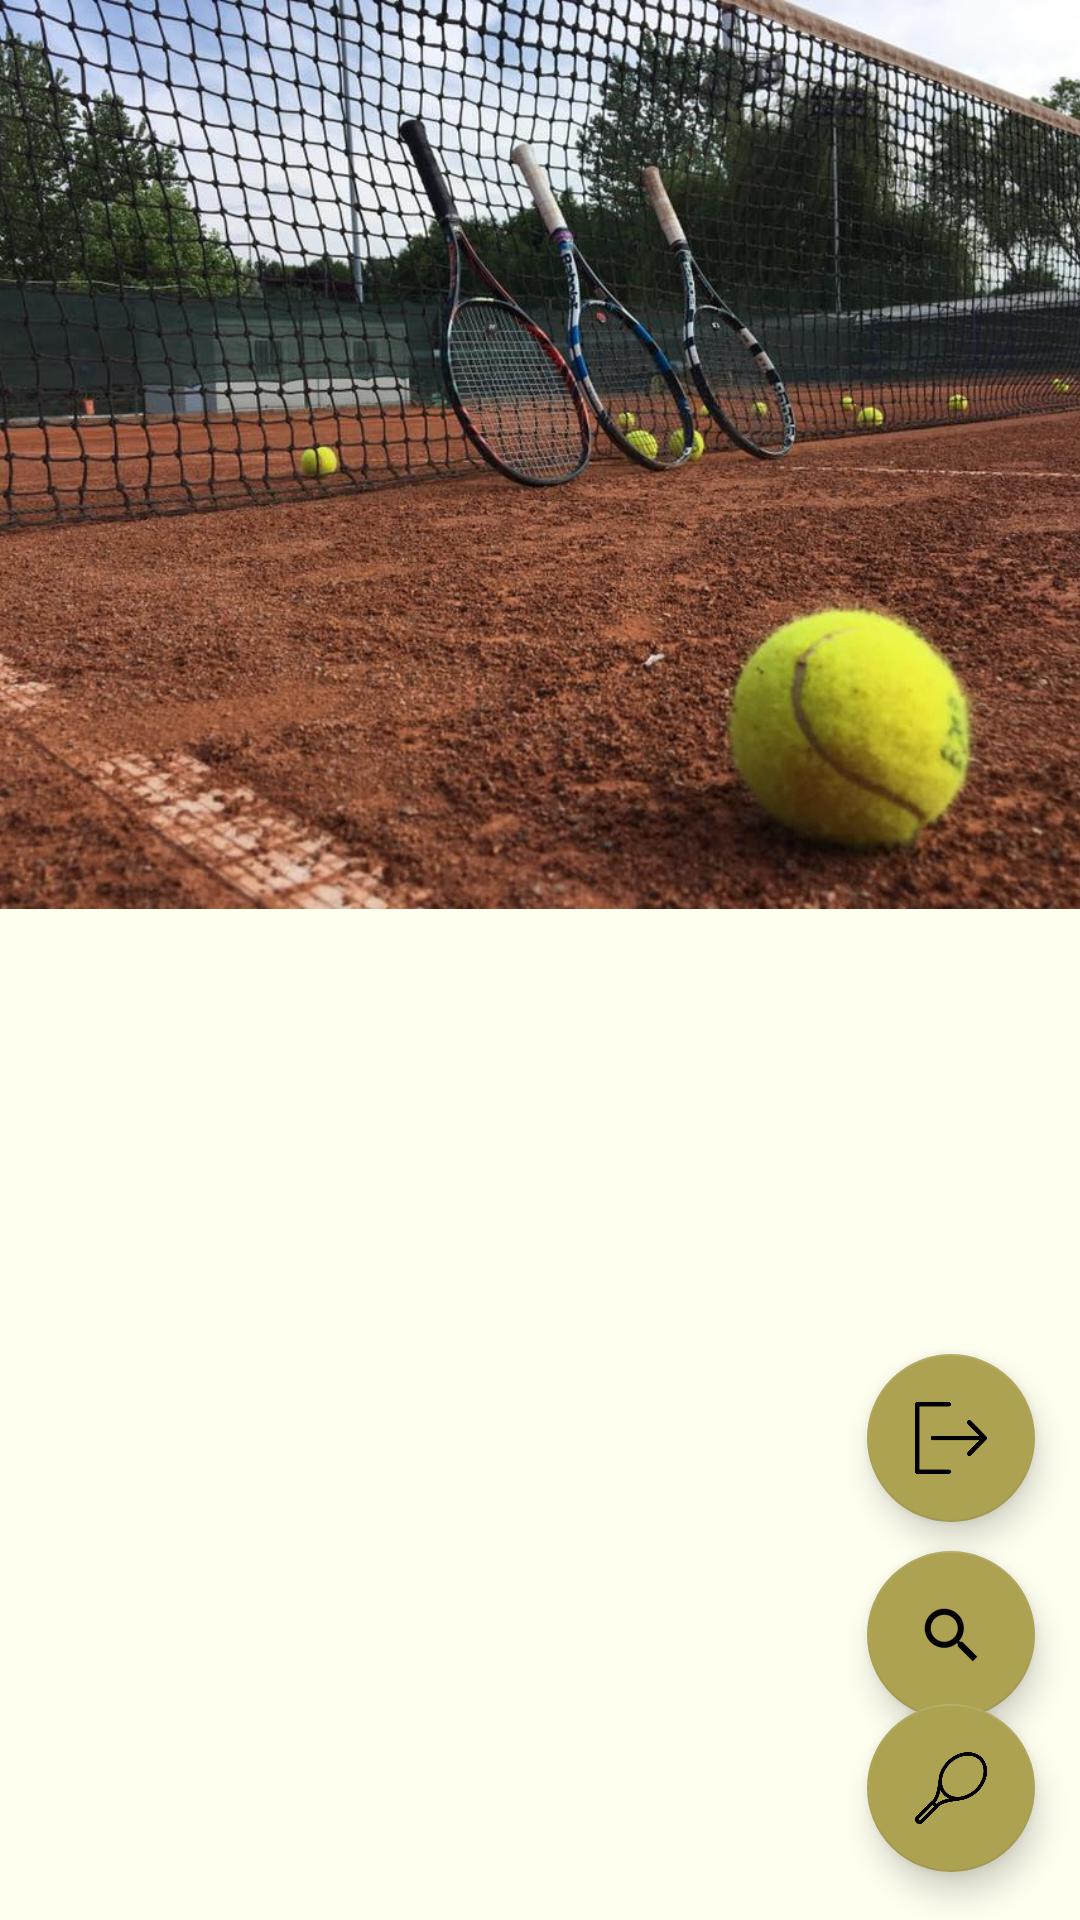

Locate icon controls on the screen. Image size 1080px×1920px, boxes as (x1, y1, x2, y2).
tennis: (867, 1704, 1035, 1872)
